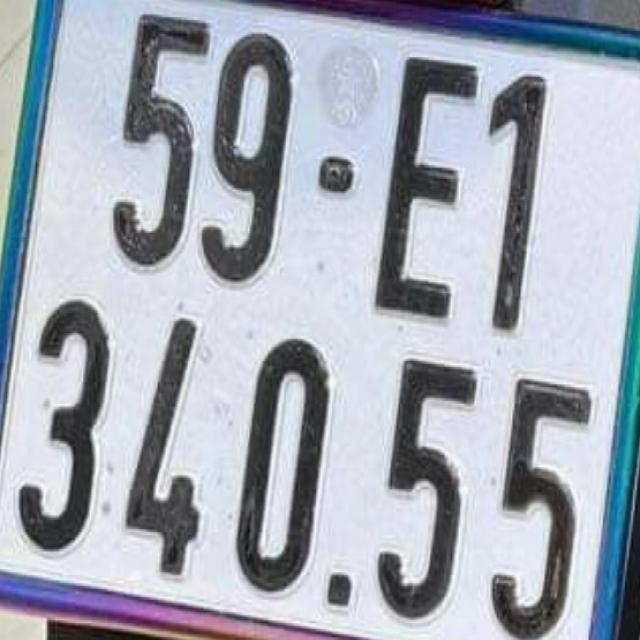0: (228, 324, 339, 600)
1: (480, 56, 559, 336)
3: (13, 288, 112, 556)
4: (122, 307, 211, 581)
5: (371, 347, 480, 623), (488, 365, 595, 640), (106, 3, 208, 273)
9: (200, 22, 300, 288)
E: (367, 39, 475, 328)
